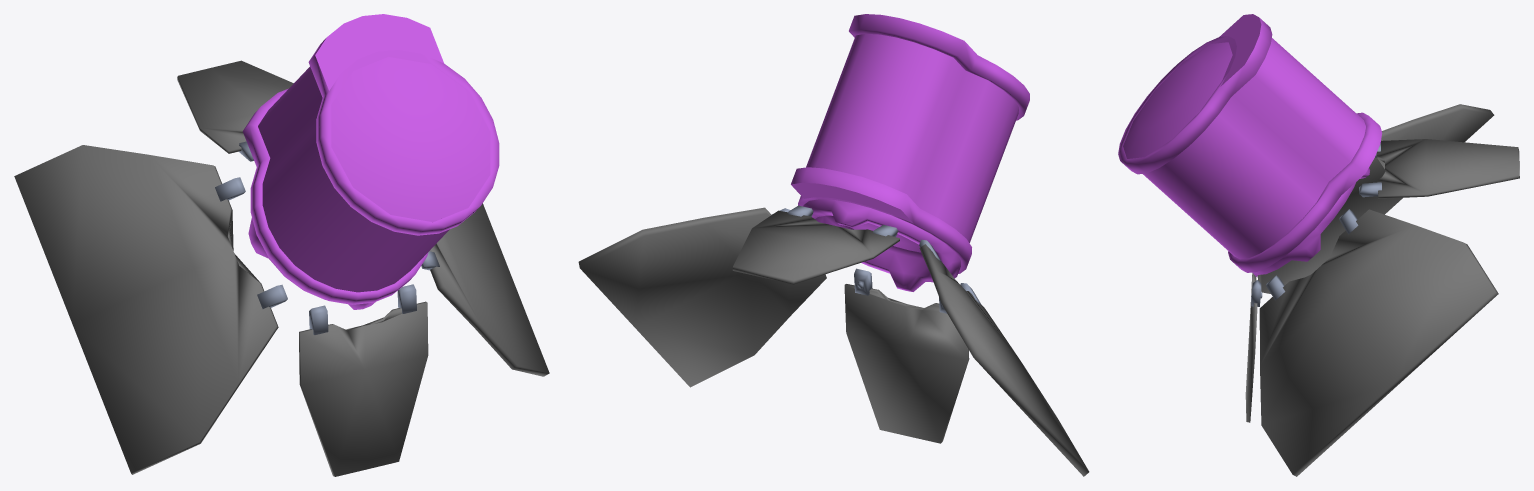
The model's file is Spotlight.obj.
3 renders of one model, left to right at view 1: azimuth 30°, elevation 25°; view 2: azimuth 150°, elevation 25°; view 3: azimuth 270°, elevation 25°, orthographic. The views are drawn at different scales.
Parts seen in each view (by area): view 1: Line65, Object16, Object17, Line67, sopt_mavi_demirrrr01, Object18, spot_mavi_demir01; view 2: Object16, Line67, Object17, Object18, Line65, sopt_mavi_demirrrr01, spot_mavi_demir01; view 3: Line67, Object16, Object18, Line65, sopt_mavi_demirrrr01, spot_mavi_demir01, Object17.
Part boxes in pixels (x1,y1,x2,y2): Line65: (14,145,278,474); Object16: (248,14,490,309); Object17: (299,301,428,476); Line67: (429,203,549,376); sopt_mavi_demirrrr01: (308,38,499,235); Object18: (177,60,293,153); spot_mavi_demir01: (242,88,428,304); Object16: (791,33,1018,291); Line67: (578,207,826,387); Object17: (844,284,969,443); Object18: (732,210,899,284); Line65: (919,244,1089,476); sopt_mavi_demirrrr01: (849,14,1029,120); spot_mavi_demir01: (791,167,971,273); Line67: (1259,209,1498,476); Object16: (1123,14,1369,276); Object18: (1376,139,1519,198); Line65: (1257,104,1494,293); sopt_mavi_demirrrr01: (1118,18,1272,174); spot_mavi_demir01: (1228,112,1382,272); Object17: (1245,273,1257,422).
Bounding box in the file's own units: 2.25 × 2.28 × 2.15.
